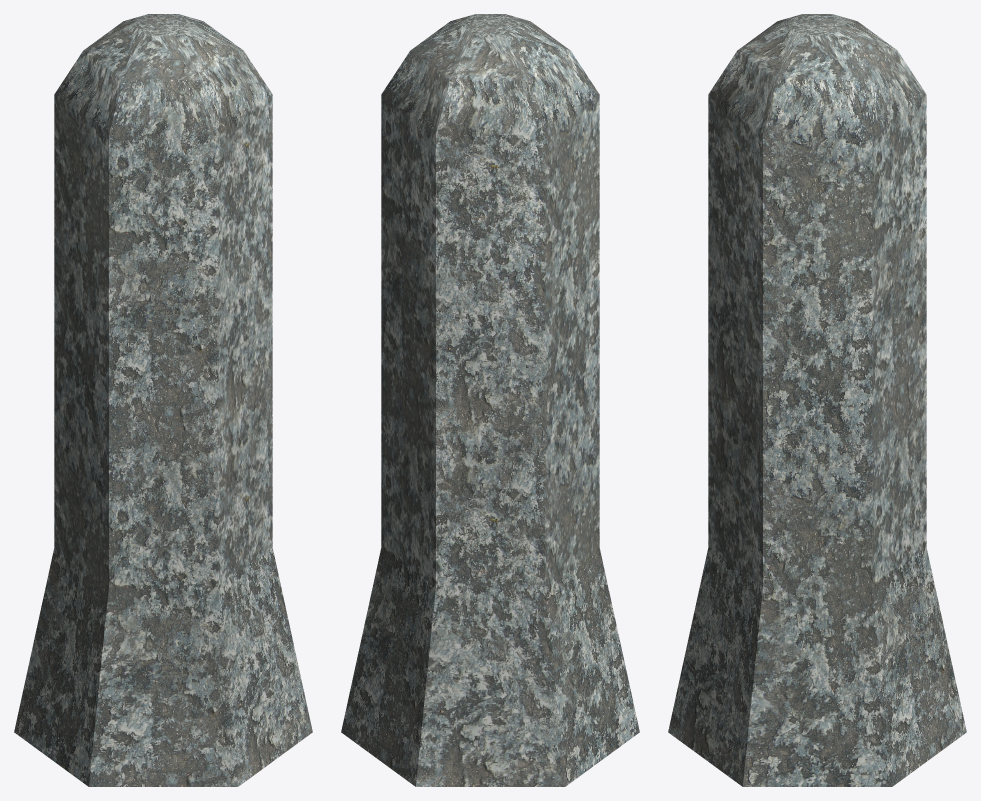
File: c4_pillar_LOD1.fbx
3 renders of one model, left to right at view 1: azimuth 30°, elevation 25°; view 2: azimuth 150°, elevation 25°; view 3: azimuth 270°, elevation 25°, orthographic.
Parts seen in each view (by area): view 1: Mesh; view 2: Mesh; view 3: Mesh.
Part boxes in pixels (box(x1,y1,x2,y2)): Mesh: box(14, 14, 312, 786); Mesh: box(341, 14, 639, 786); Mesh: box(668, 14, 966, 786).
Size of the model in its own units: 50.15 by 151 by 57.9.
